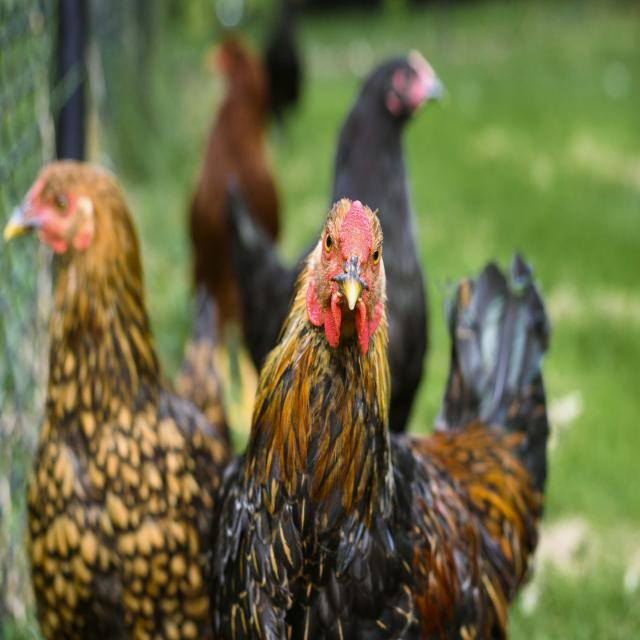Chicken: (244, 210, 544, 640), (0, 148, 208, 592), (339, 47, 448, 195)
